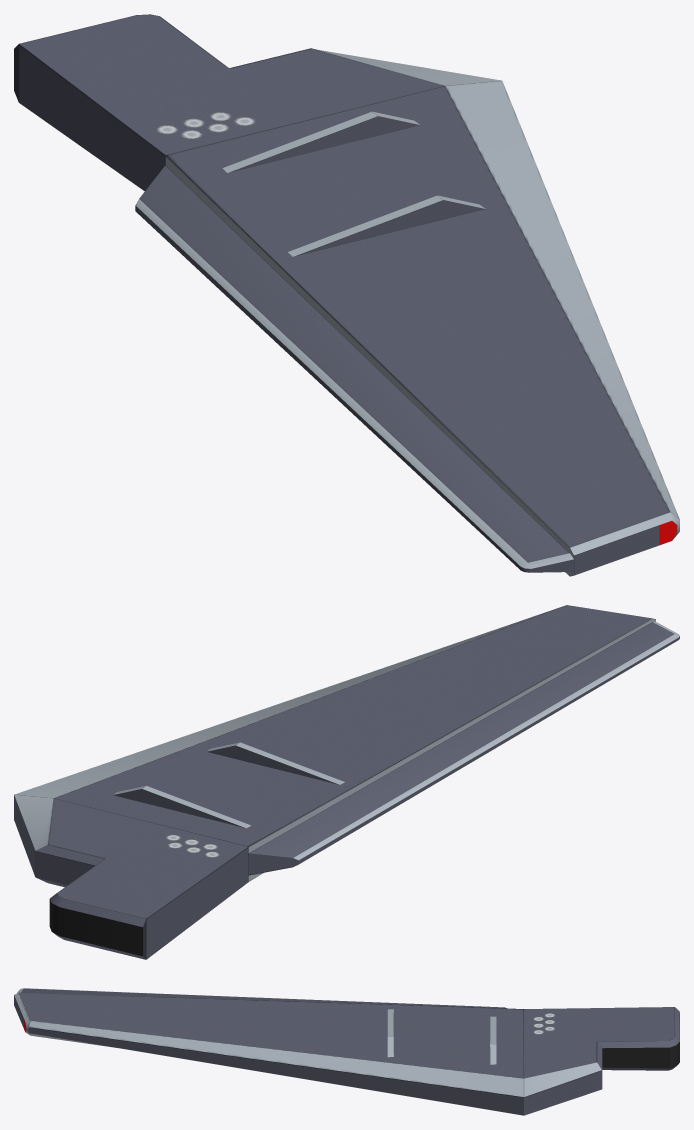
The model's file is Wing_08.FBX.
The picture shows the model from 3 angles, top to bottom: view 1: azimuth 30°, elevation 25°; view 2: azimuth 150°, elevation 25°; view 3: azimuth 270°, elevation 25°; orthographic projection. The views are drawn at different scales.
Parts seen in each view (by area): view 1: Wing_08; view 2: Wing_08; view 3: Wing_08.
Part boxes in pixels (bbox=[...]): Wing_08: bbox=[14, 14, 679, 576]; Wing_08: bbox=[14, 605, 679, 959]; Wing_08: bbox=[14, 988, 679, 1115].
Bounding box in the file's own units: 3.38 × 0.6223 × 8.12.
1 material, 1 textured.
